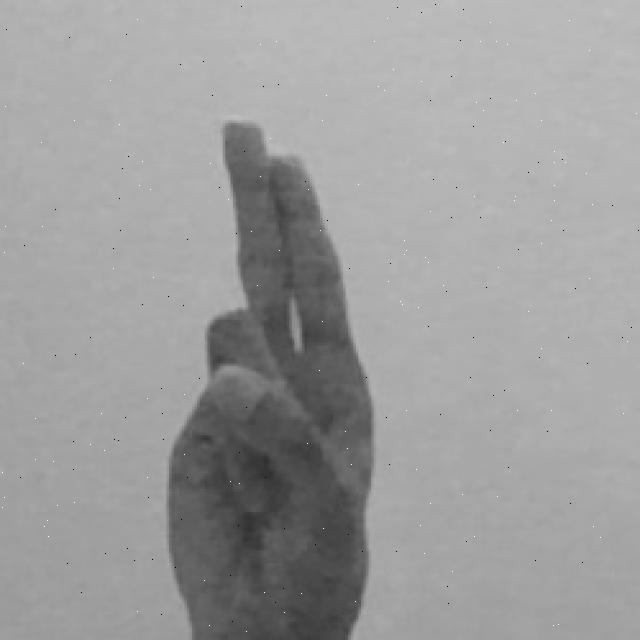U: (159, 115, 379, 640)
